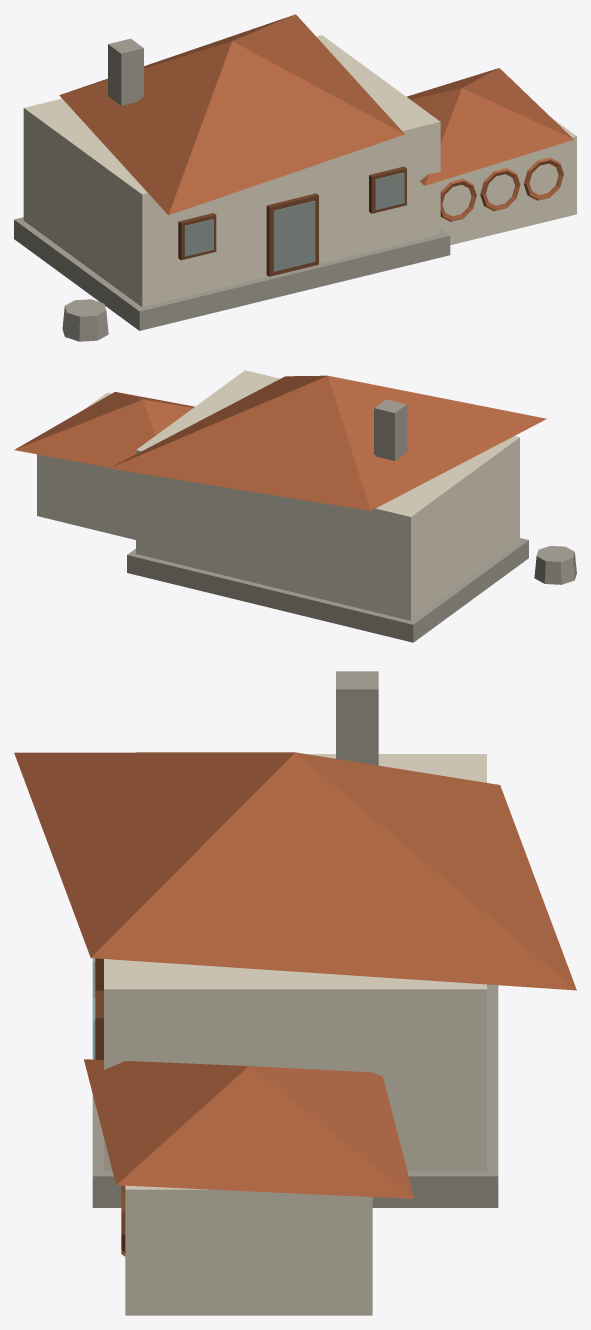
File: alqueria.glb
3 renders of one model, top to bottom at view 1: azimuth 30°, elevation 25°; view 2: azimuth 150°, elevation 25°; view 3: azimuth 270°, elevation 25°, orthographic. The views are drawn at different scales.
Parts seen in each view (by area): view 1: alqueria; view 2: alqueria; view 3: alqueria.
Part boxes in pixels (bbox=[...]): alqueria: bbox=[14, 14, 576, 341]; alqueria: bbox=[14, 370, 576, 642]; alqueria: bbox=[14, 671, 576, 1315].
Size of the model in its own units: 25.18 by 9.6 by 14.56.
